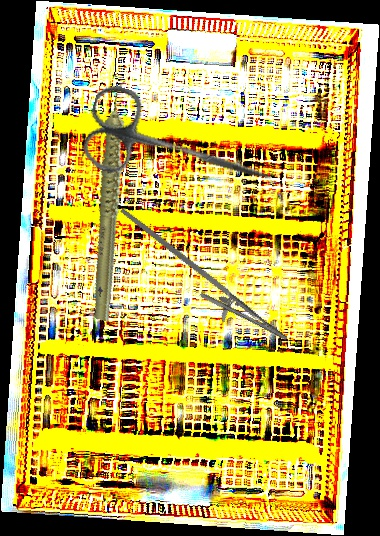Handpiece: (44, 78, 183, 323)
Iris Scissors: (76, 81, 285, 216)
Needle Holder: (98, 206, 302, 356)
